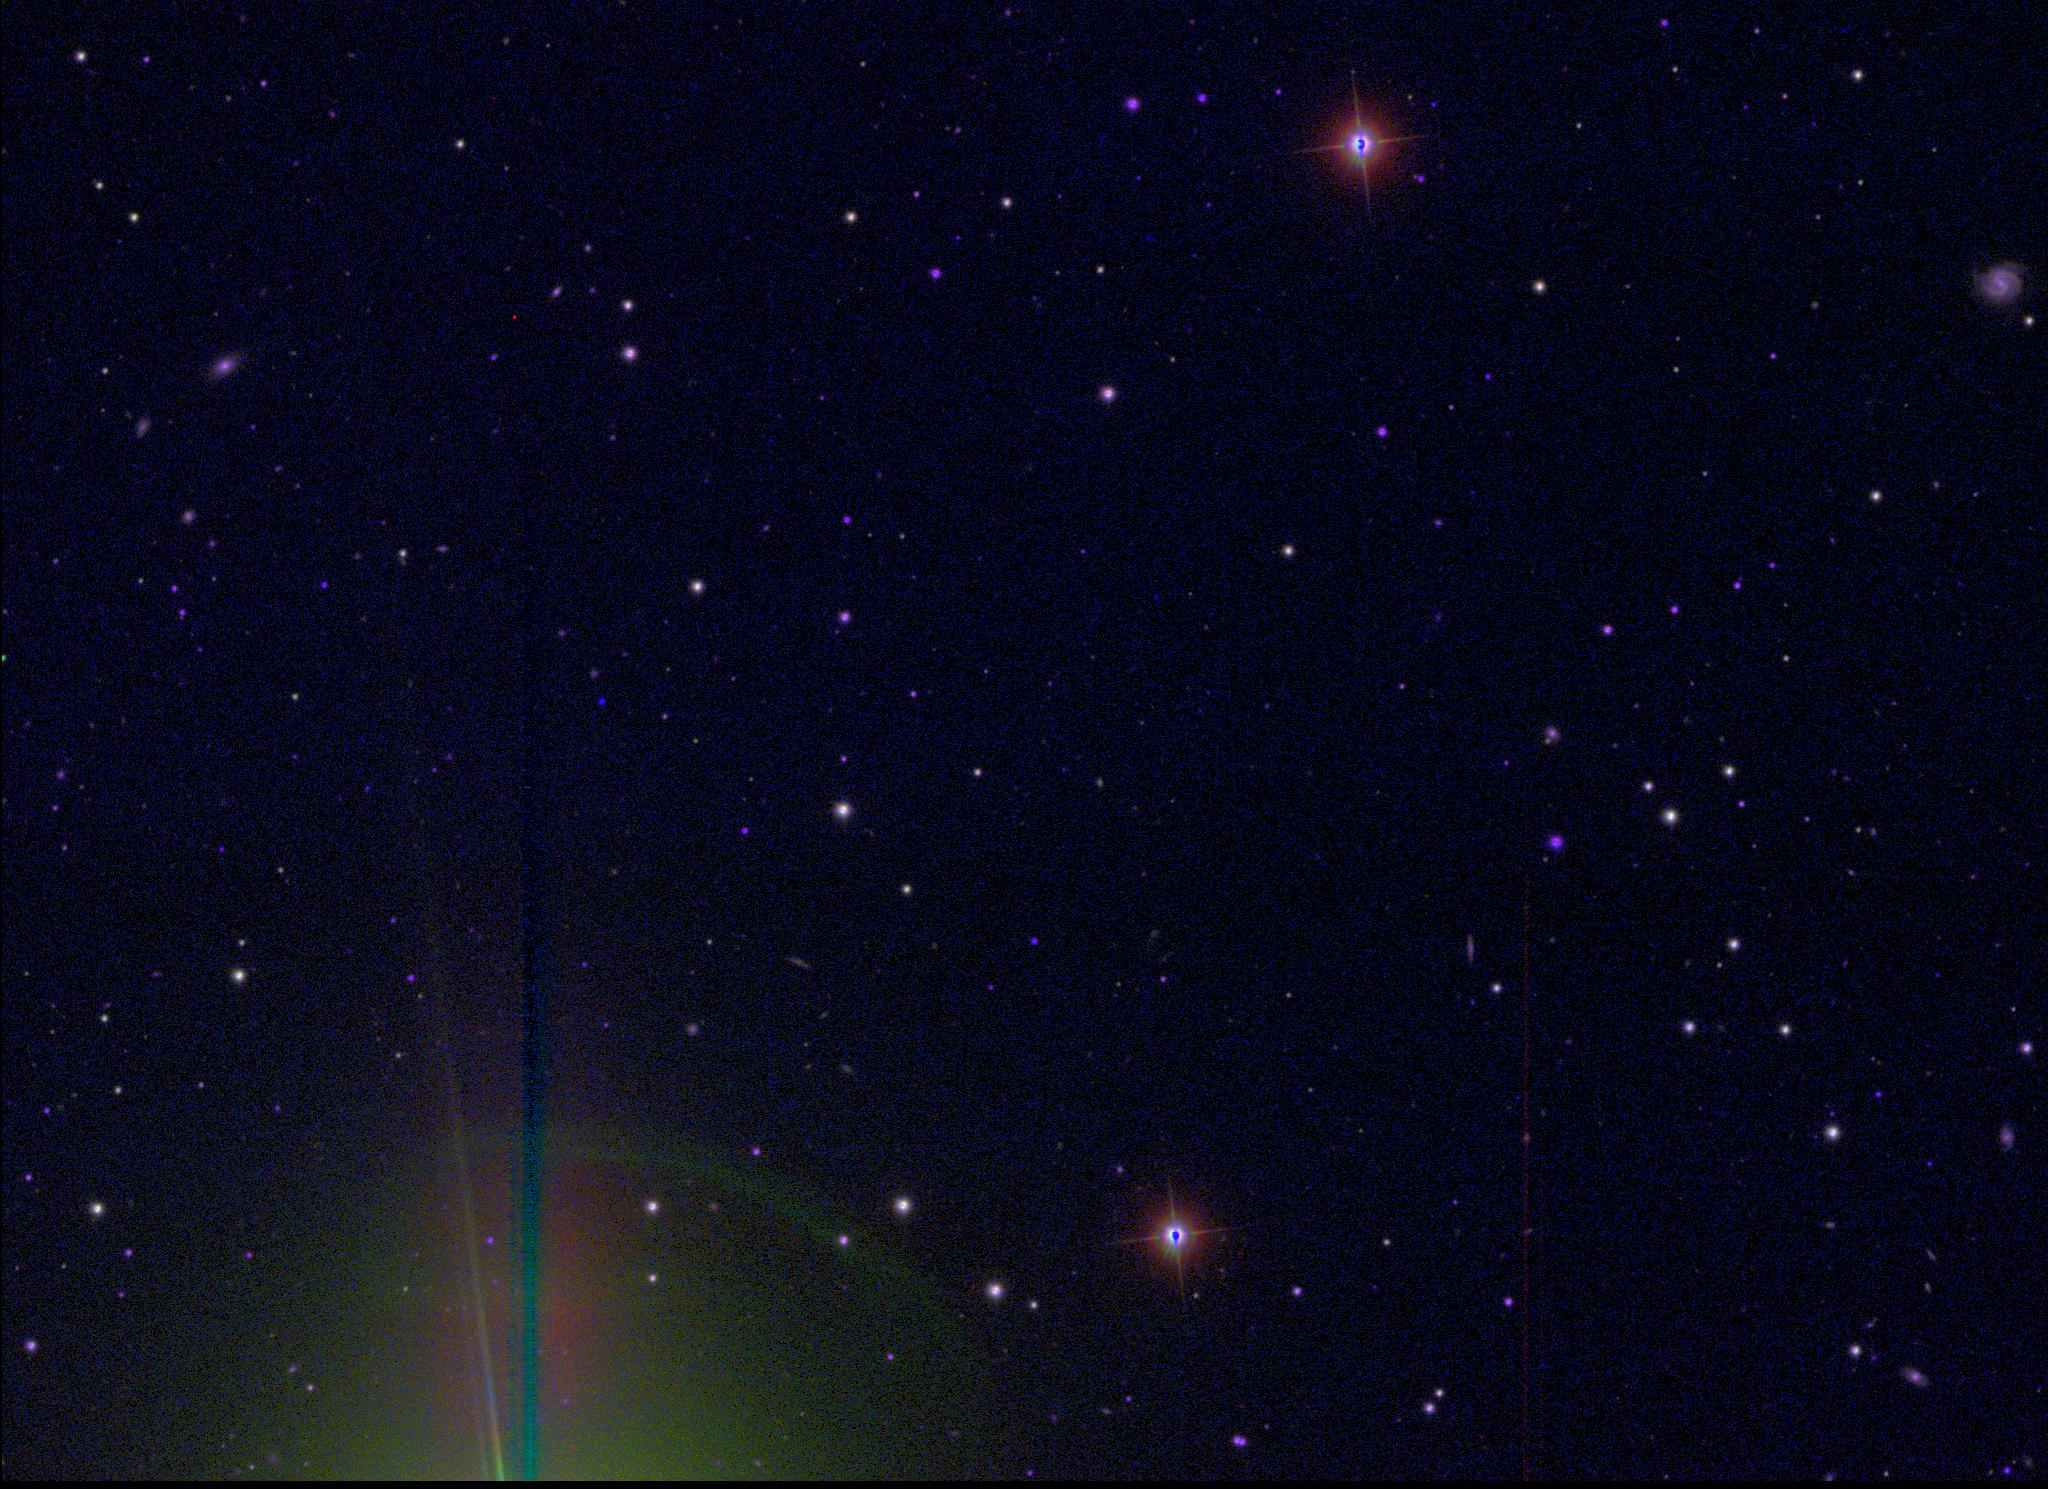L: (595, 695, 609, 710)
